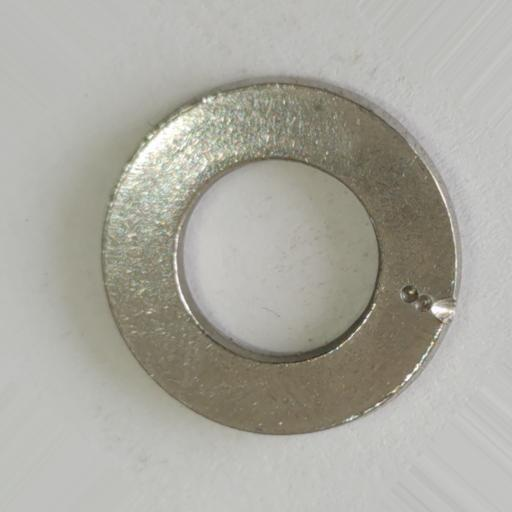circular_cavity: (431, 297, 457, 324), (401, 284, 419, 303), (416, 295, 433, 312)
